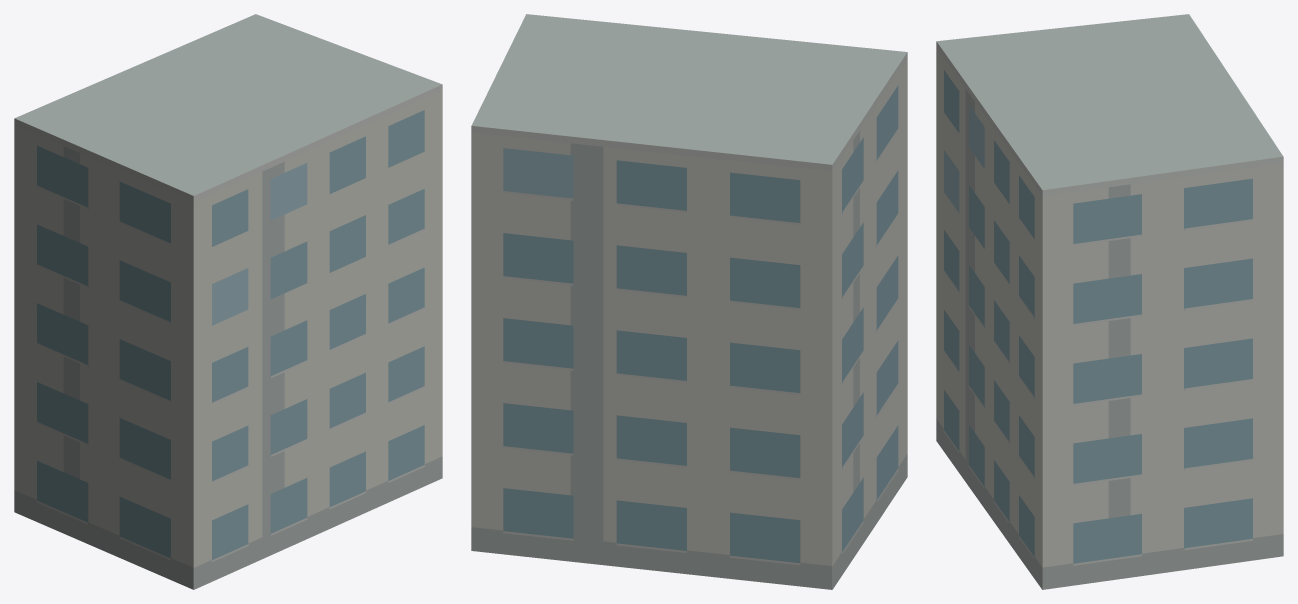
Rendered from survey-upis-32829370.glb.
3 views of the same model, side by side, from view 1: azimuth 30°, elevation 25°; view 2: azimuth 150°, elevation 25°; view 3: azimuth 270°, elevation 25° (orthographic). The views are drawn at different scales.
Parts seen in each view (by area): view 1: survey-upis-32829370.tmp; view 2: survey-upis-32829370.tmp; view 3: survey-upis-32829370.tmp.
Part boxes in pixels (box(x1,y1,x2,y2)): survey-upis-32829370.tmp: box(14, 14, 442, 589); survey-upis-32829370.tmp: box(471, 14, 907, 589); survey-upis-32829370.tmp: box(936, 14, 1283, 589).
Bounding box in the file's own units: 14.43 × 15.25 × 12.01.
